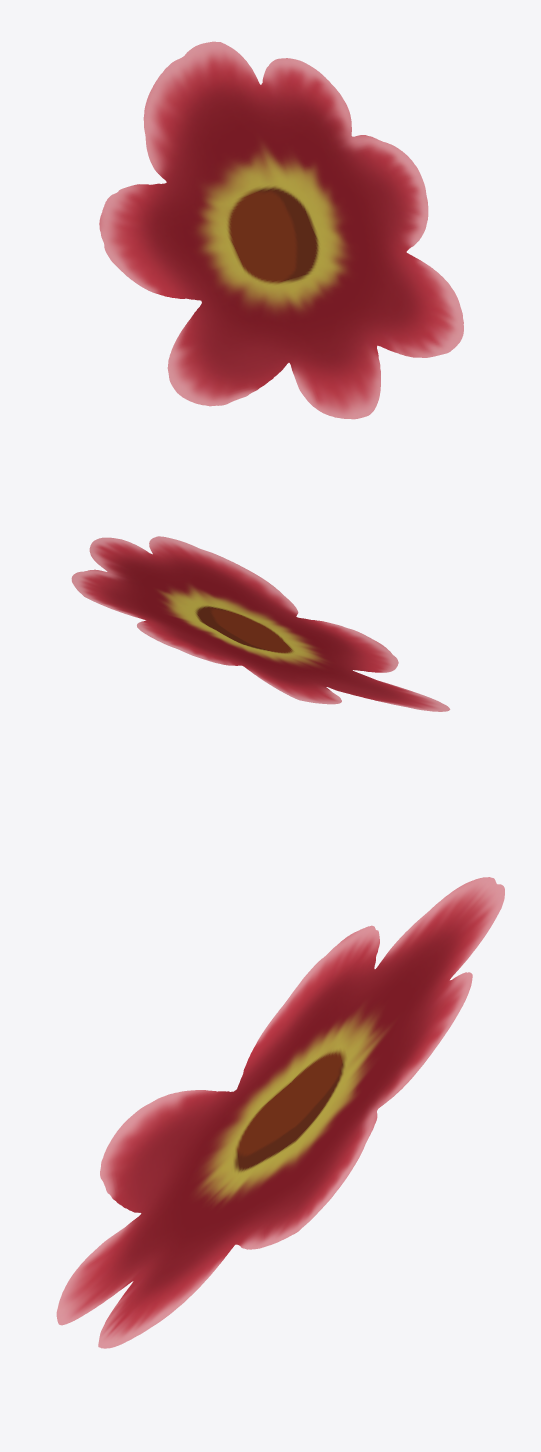
The model's file is Flor_Roja.fbx.
The picture shows the model from 3 angles, top to bottom: view 1: azimuth 30°, elevation 25°; view 2: azimuth 150°, elevation 25°; view 3: azimuth 270°, elevation 25°; orthographic projection. The views are drawn at different scales.
Parts seen in each view (by area): view 1: Flor_Roja; view 2: Flor_Roja; view 3: Flor_Roja.
Boxes of the visible parts, left/top/right/bottom form: Flor_Roja: left=99, top=41, right=463, bottom=419; Flor_Roja: left=71, top=536, right=450, bottom=711; Flor_Roja: left=56, top=877, right=504, bottom=1348.
Bounding box in the file's own units: 83.39 × 62.53 × 65.77.
